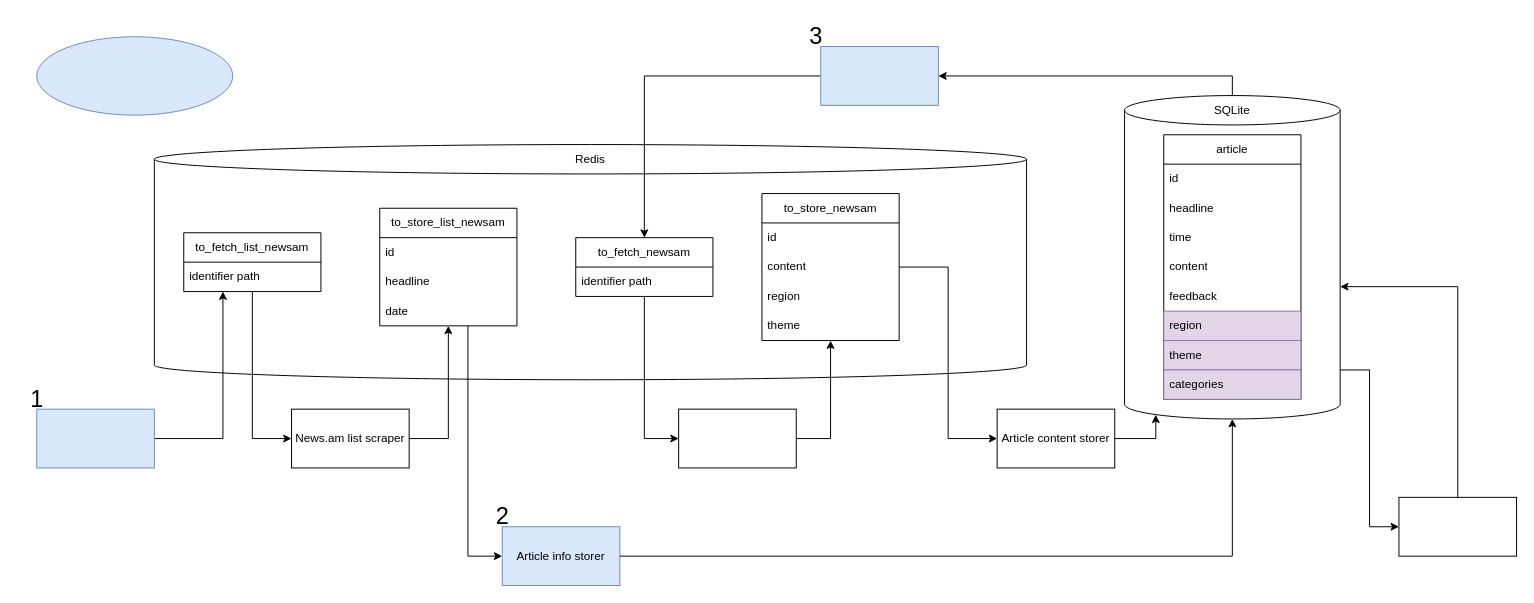
Image size: 1534x603. Some labels were removed from this diagram. Each missing label, with the centre of its shape:
Content scraping assigner: (x=879, y=75)
Date sequence generator: (x=95, y=438)
GPT sentiment extraction: (x=1457, y=526)
News.am content scraper: (x=737, y=438)
Scraping process orchestrator: (x=134, y=75)
